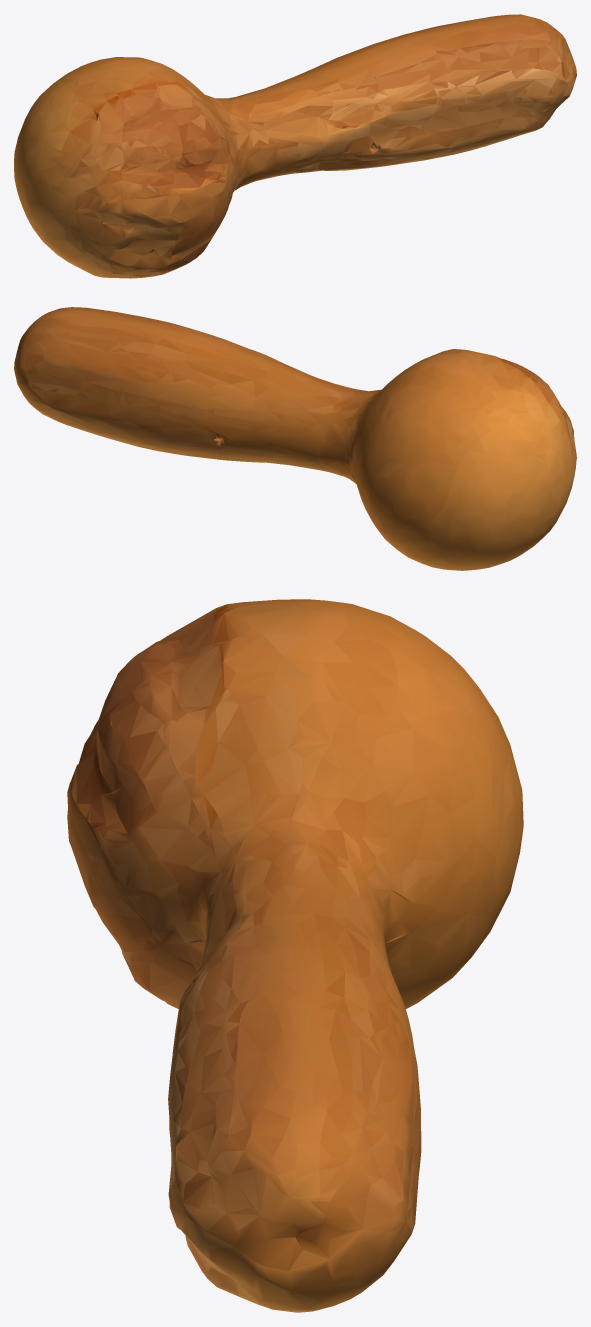
Rendered from tool_add.glb.
3 renders of one model, top to bottom at view 1: azimuth 30°, elevation 25°; view 2: azimuth 150°, elevation 25°; view 3: azimuth 270°, elevation 25°, orthographic. The views are drawn at different scales.
Visible parts, largest first — view 1: geometry_0; view 2: geometry_0; view 3: geometry_0.
Boxes of the visible parts, x1,y1,x2,y2 form: geometry_0: [14, 14, 576, 278]; geometry_0: [14, 307, 576, 570]; geometry_0: [67, 599, 523, 1312].
Size of the model in its own units: 0.11 by 0.0394 by 0.0407.
Materials: 1 (1 with a texture image).
